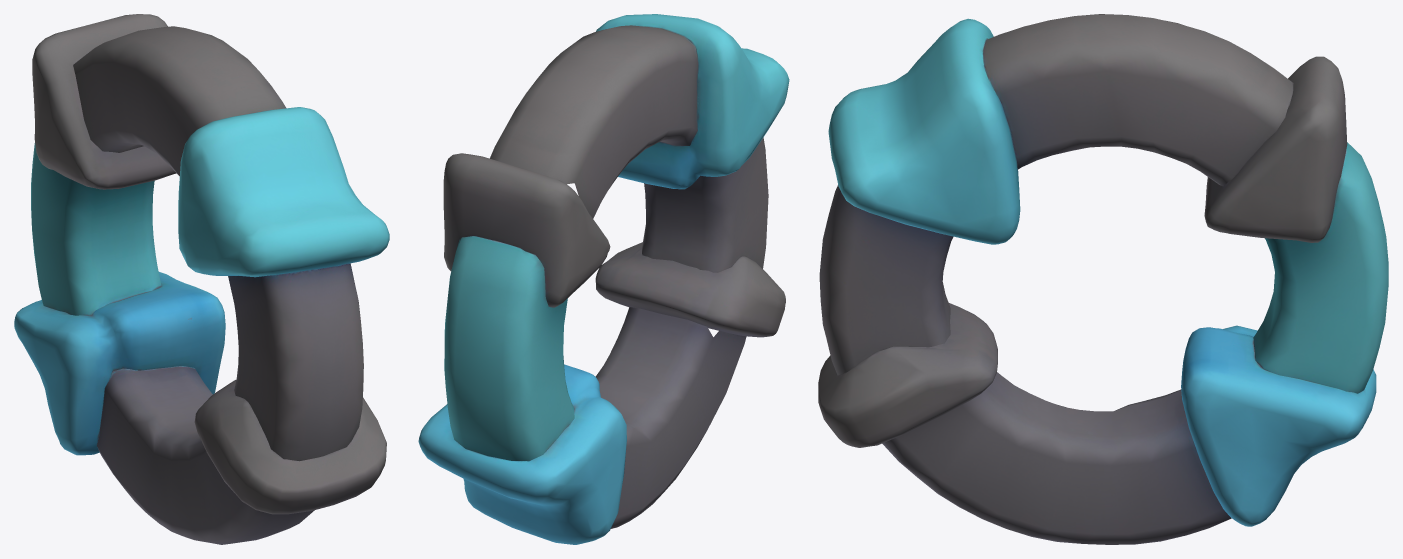
File: icon-cycle.glb
3 renders of one model, left to right at view 1: azimuth 30°, elevation 25°; view 2: azimuth 150°, elevation 25°; view 3: azimuth 270°, elevation 25°, orthographic. The views are drawn at different scales.
Visible parts, largest first — view 1: tripo_node_kodyurd-model-35____________________; view 2: tripo_node_kodyurd-model-35____________________; view 3: tripo_node_kodyurd-model-35____________________.
Boxes of the visible parts, left/top/right/bottom form: tripo_node_kodyurd-model-35____________________: left=14, top=14, right=389, bottom=544; tripo_node_kodyurd-model-35____________________: left=418, top=14, right=789, bottom=544; tripo_node_kodyurd-model-35____________________: left=818, top=14, right=1388, bottom=544.
Size of the model in its own units: 0.334 by 0.9863 by 0.998.
1 material, 1 textured.
